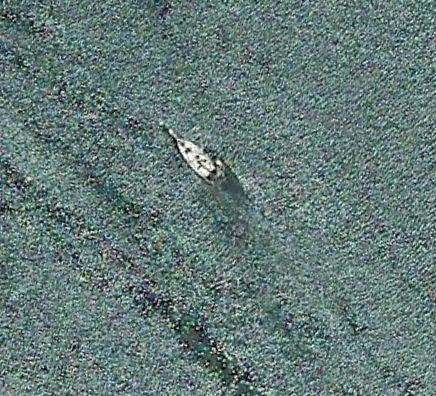Ships: (167, 117, 228, 183)
